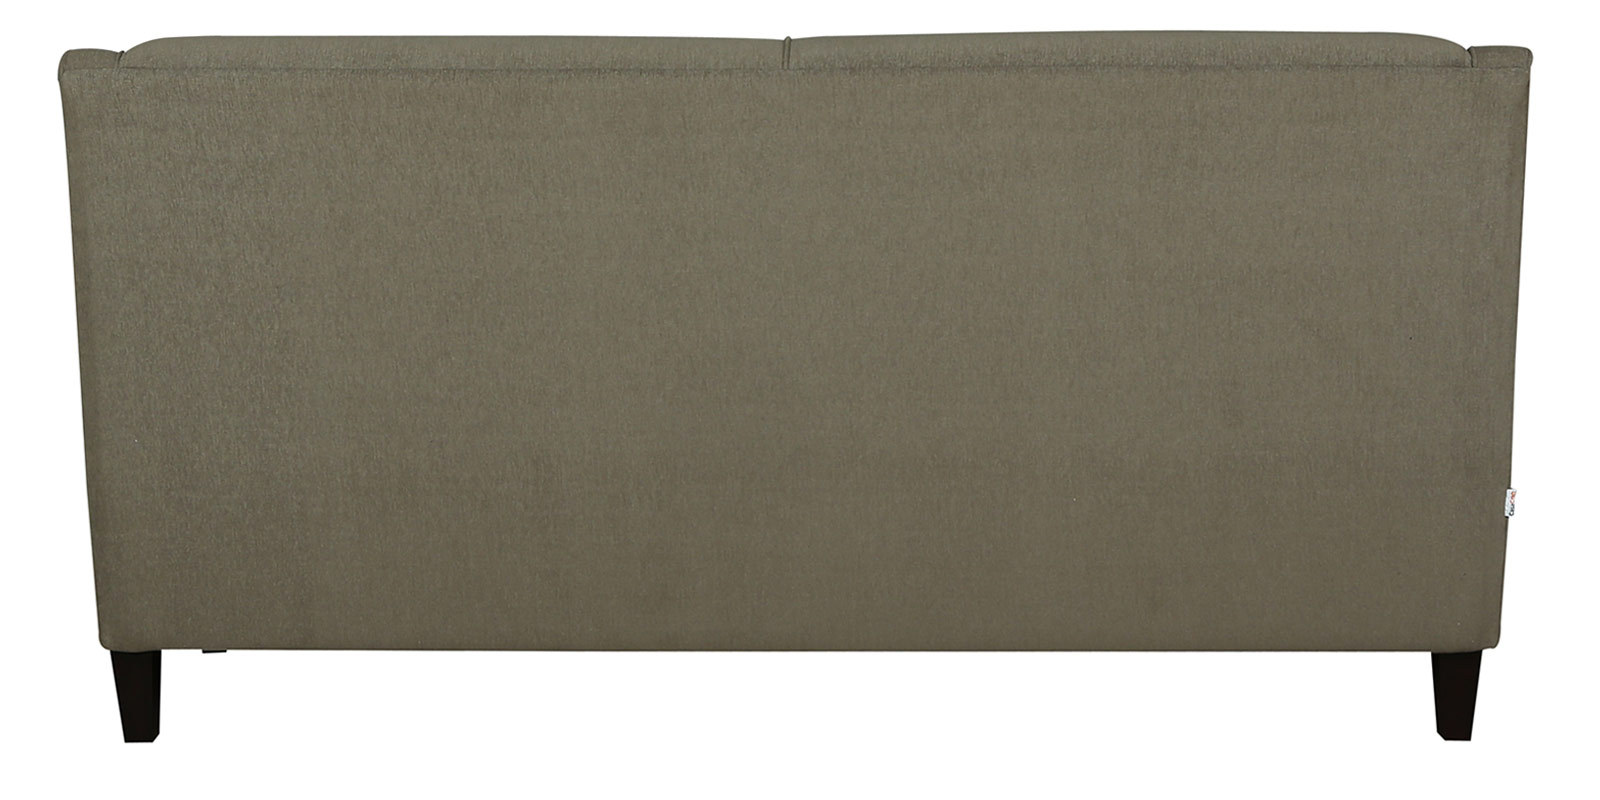Oscar Three Seater Sofa in Sandy Brown Colour by CasaCraft: (56, 31, 1534, 742)
